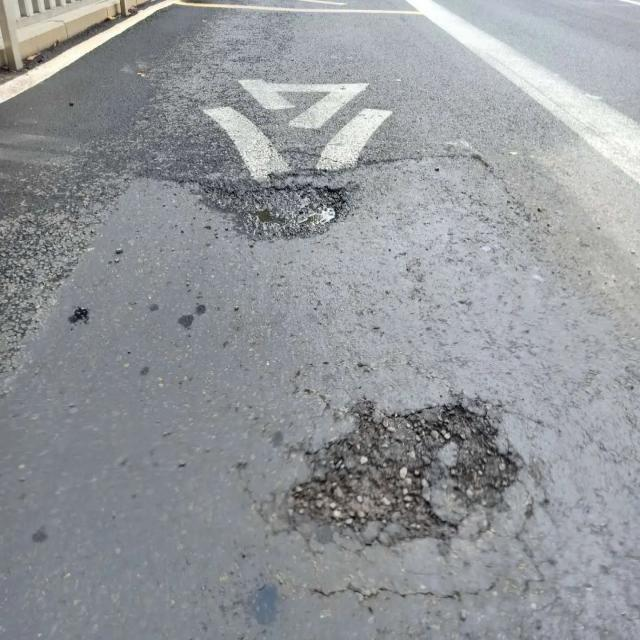pothole: (283, 406, 521, 543), (188, 177, 350, 243)
